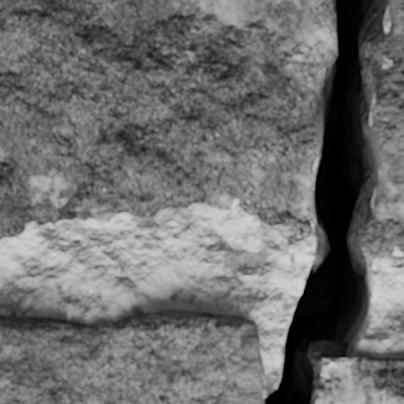brick: (0, 310, 263, 403), (316, 358, 403, 403)
broken_brick: (0, 0, 326, 240), (362, 0, 403, 267)
crack: (263, 0, 401, 403)
